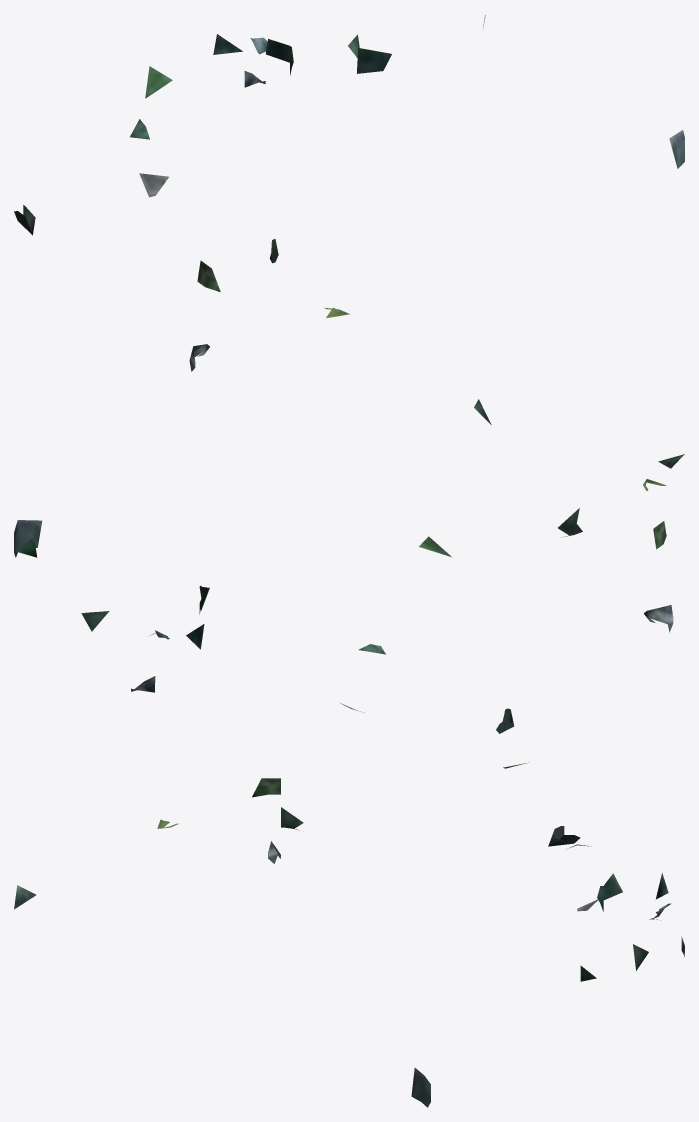
3 renders of one model, top to bottom at view 1: azimuth 30°, elevation 25°; view 2: azimuth 150°, elevation 25°; view 3: azimuth 270°, elevation 25°, orthographic. The views are drawn at different scales.
Visible parts, largest first — view 1: 3043627270437042662_1; view 2: 3043627270437042662_1; view 3: 3043627270437042662_1.
Part boxes in pixels (box(x1,y1,x2,y2)): 3043627270437042662_1: box(14, 15, 684, 424); 3043627270437042662_1: box(14, 454, 684, 733); 3043627270437042662_1: box(14, 762, 684, 1107).
Bounding box in the file's own units: 54.62 × 15.41 × 63.56.
Materials: 1 (1 with a texture image).
